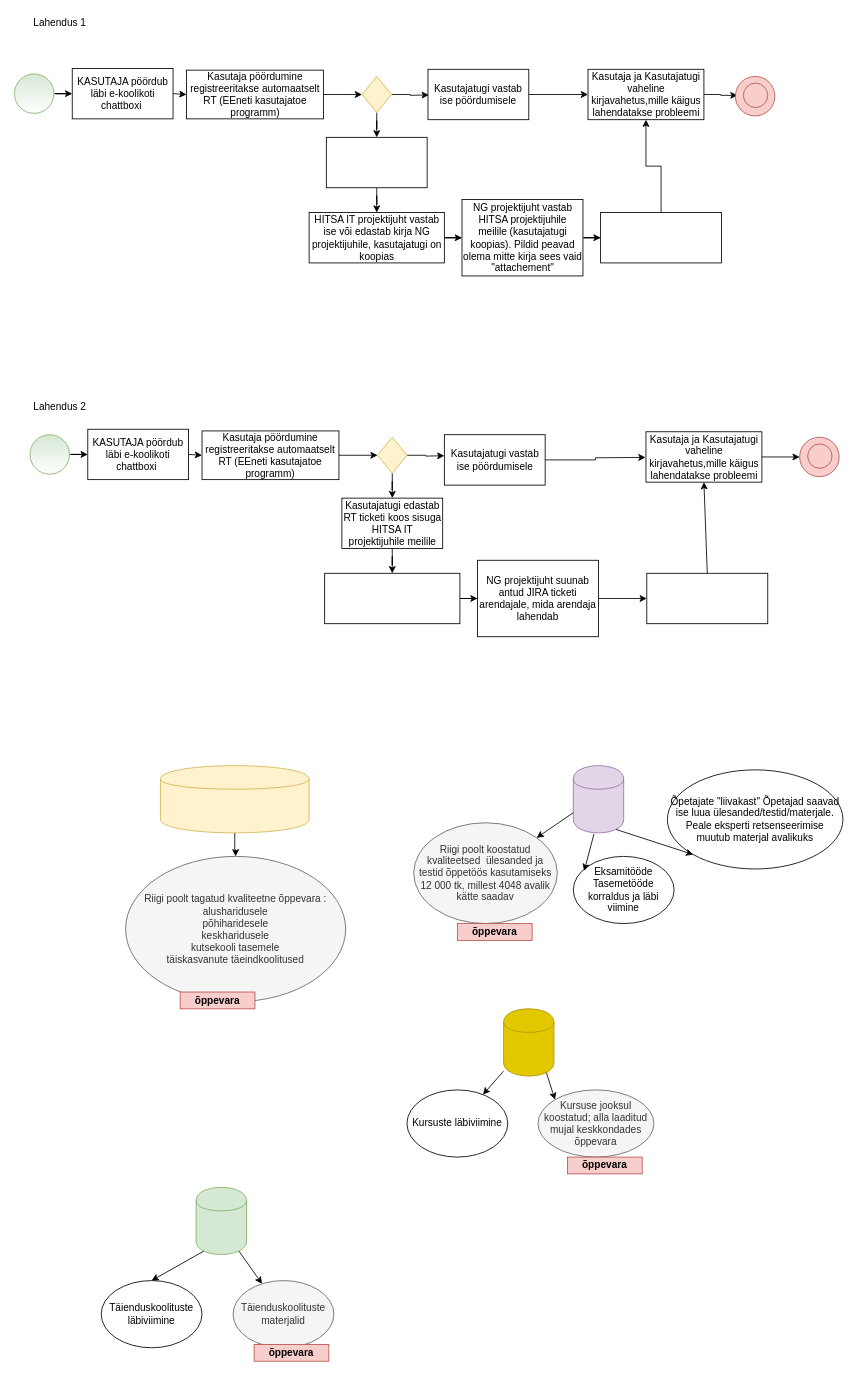
The diagram is 858 pixels wide and 1376 high, and some of its shapes have lost their labels. The centre of each missing label's shape, as x and y in pixels:
E-koolikott: point (234, 799)
EIS: point (598, 799)
HITSA IT projektijuht teeb JIRAsse pileti ning suunab NG projektijuhile: point (392, 598)
HITSA projektijuht edastab vastust Kasutajatoele: point (661, 237)
HITSA projektijuht edastab vastust Kasutajatoele meilile: point (707, 598)
Juhan: point (221, 1220)
Kasutajatugi edastab RT ticketi koos sisuga HITSA IT projektijuhile: point (376, 162)
Moodle: point (528, 1042)
